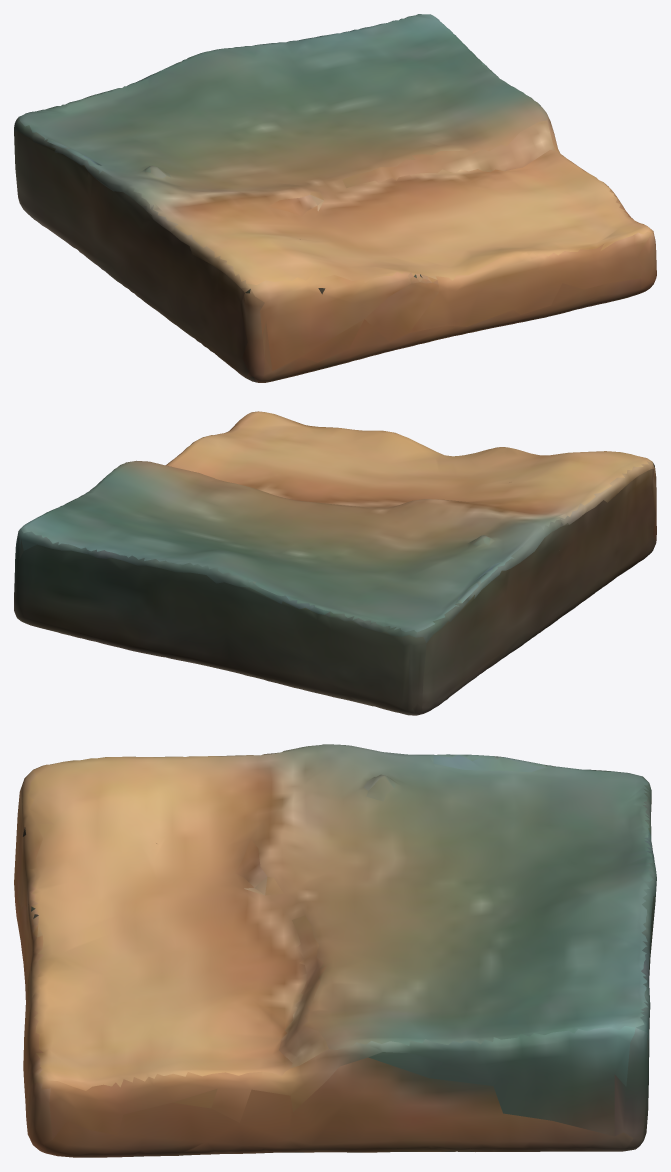
Rendered from m19_areia_margem.glb.
3 renders of one model, top to bottom at view 1: azimuth 30°, elevation 25°; view 2: azimuth 150°, elevation 25°; view 3: azimuth 270°, elevation 25°, orthographic. The views are drawn at different scales.
Parts seen in each view (by area): view 1: m19_areia_margem; view 2: m19_areia_margem; view 3: m19_areia_margem.
Part boxes in pixels (bbox=[...]): m19_areia_margem: bbox=[14, 14, 656, 382]; m19_areia_margem: bbox=[14, 411, 656, 715]; m19_areia_margem: bbox=[14, 744, 656, 1157].
Size of the model in its own units: 1.01 by 0.278 by 1.01.
1 material, 1 textured.
